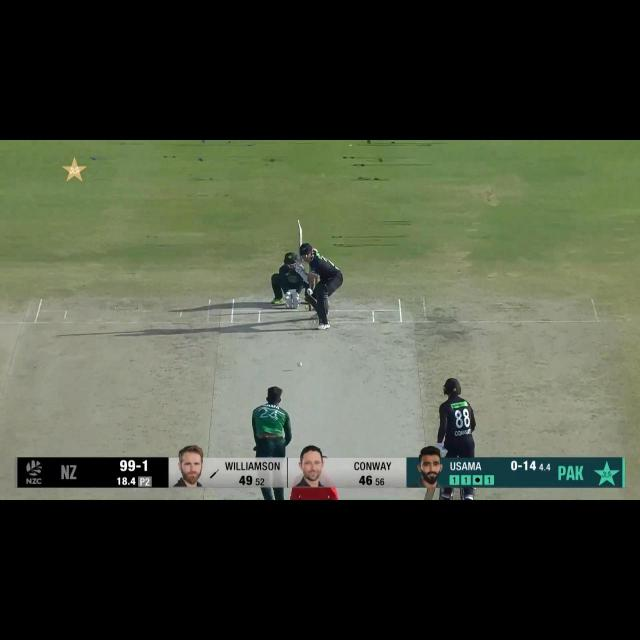bat: (294, 215, 306, 251), (420, 488, 439, 500)
toe: (295, 217, 302, 230), (423, 494, 436, 500)
